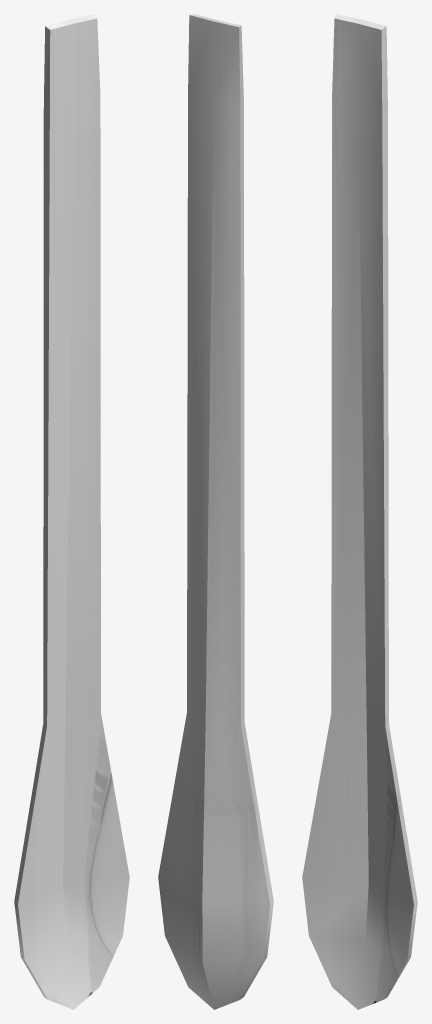
Rendered from Spatula_flat_spoon_S1_Colldr.fbx.
The picture shows the model from 3 angles, left to right: view 1: azimuth 30°, elevation 25°; view 2: azimuth 150°, elevation 25°; view 3: azimuth 330°, elevation 25°; orthographic projection.
Visible parts, largest first — view 1: Spatula_flat_spoon_1_Colldr; view 2: Spatula_flat_spoon_1_Colldr; view 3: Spatula_flat_spoon_1_Colldr.
Boxes of the visible parts, x1=… form: Spatula_flat_spoon_1_Colldr: x1=14, y1=14, x2=129, y2=1009; Spatula_flat_spoon_1_Colldr: x1=158, y1=14, x2=273, y2=1009; Spatula_flat_spoon_1_Colldr: x1=302, y1=14, x2=417, y2=1009.
Bounding box in the file's own units: 1.71 × 14.43 × 0.4431.
